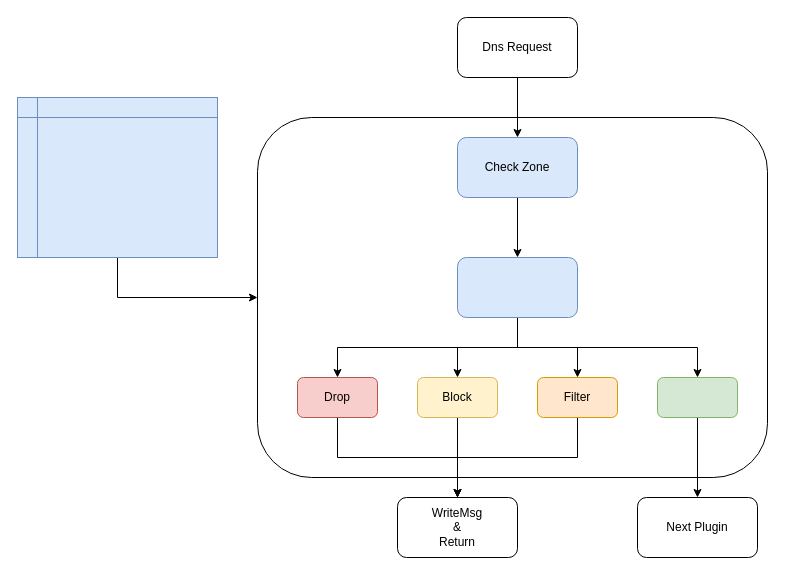
Some shapes in this 785 by 575 pixel diagram are drawn without their labels. Each missing label, with the centre of its shape:
"ACl Rule" belongs at [117,177].
"Allow" belongs at [697,397].
"Check Action" belongs at [517,287].
